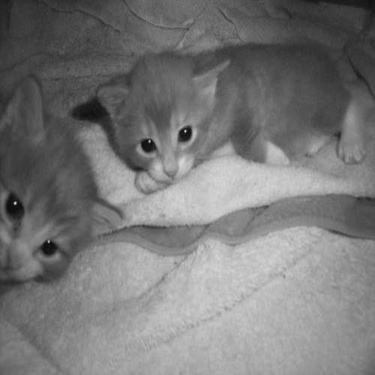cat: (91, 36, 366, 197), (1, 74, 126, 288)
